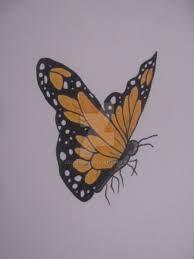Butterfly: (36, 51, 159, 207)
